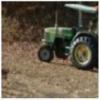tractors: (38, 4, 100, 71)
